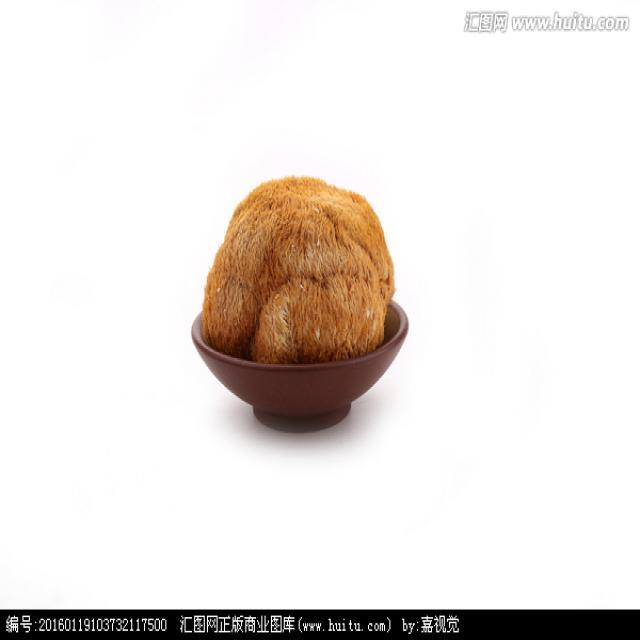Hericium erinaceus: (202, 174, 391, 359)
